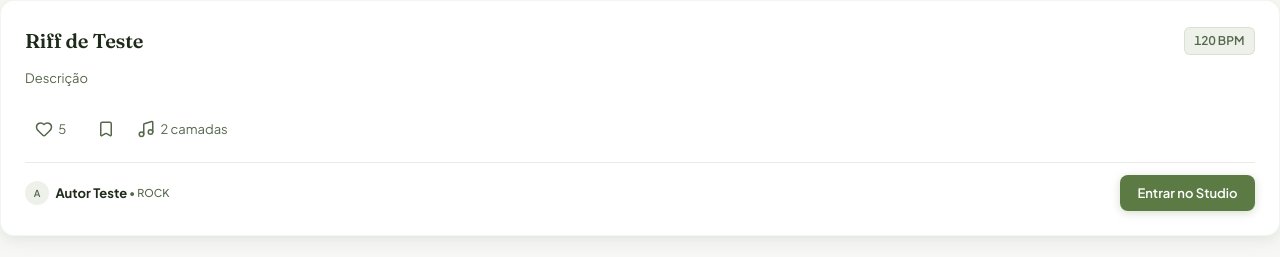
Scenario: ProjectCard › desfaz a curtida e mostra o erro quando o servidor recusa
Click the button named "Curtir".
click(50, 130)  # box [25,115,76,144]
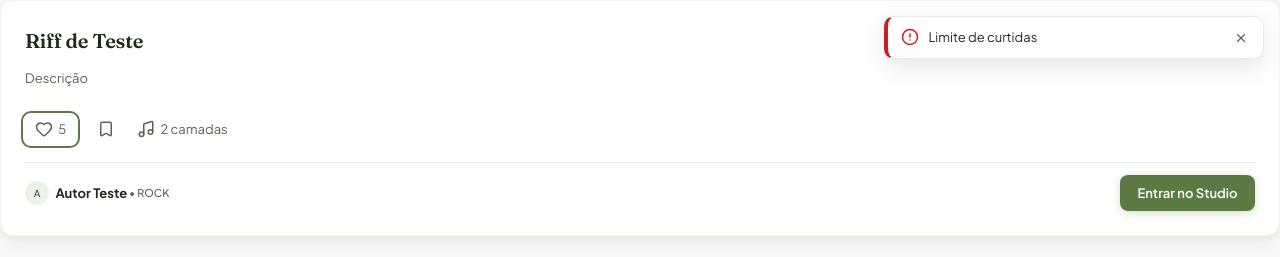
Expected: the text "Limite de curtidas" is shown, [928,29,1037,45]
